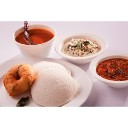idly: (33, 70, 74, 107), (33, 61, 67, 75)
